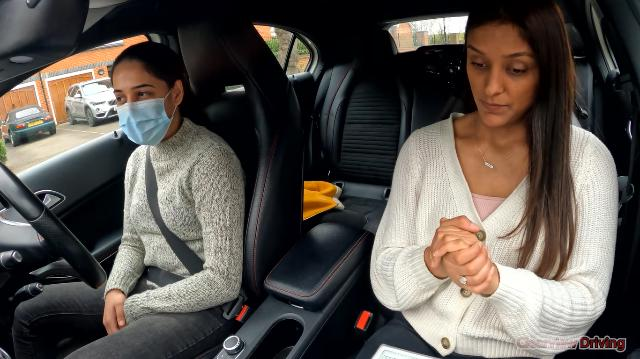no seatbelt: (373, 150, 608, 359)
seatbelt: (92, 144, 276, 290)
